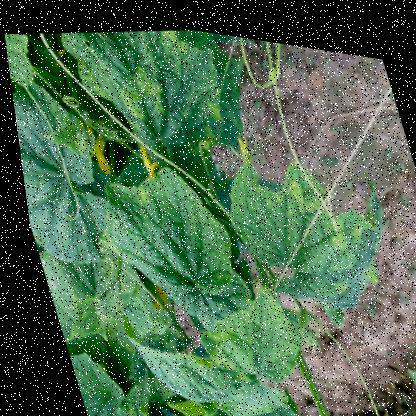CassavaMosaicDisease: (231, 153, 387, 312), (53, 8, 219, 154), (89, 154, 221, 298), (8, 77, 98, 271), (34, 252, 156, 370), (207, 302, 306, 413), (58, 347, 119, 415), (99, 401, 193, 415)
